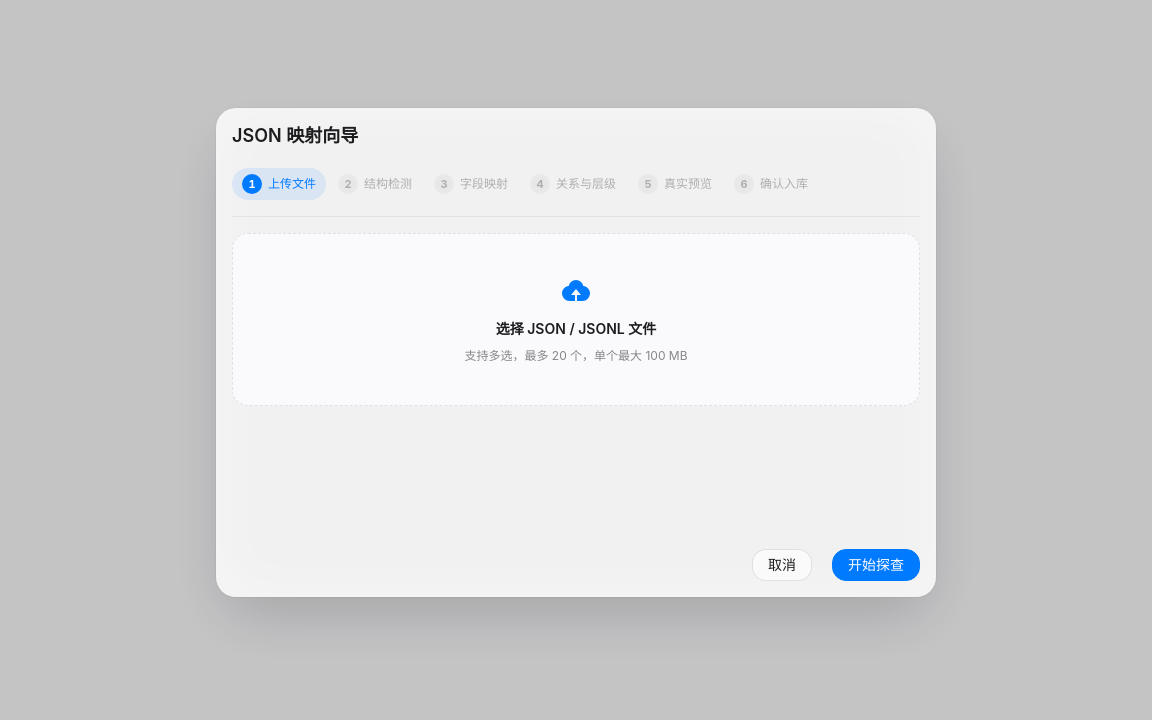
Test case: JsonMappingWizard shell › continue-configuration mode profiles the preset doc directly without re-upload
Click the button "开始探查" at (876, 565), box [832,549,920,581]
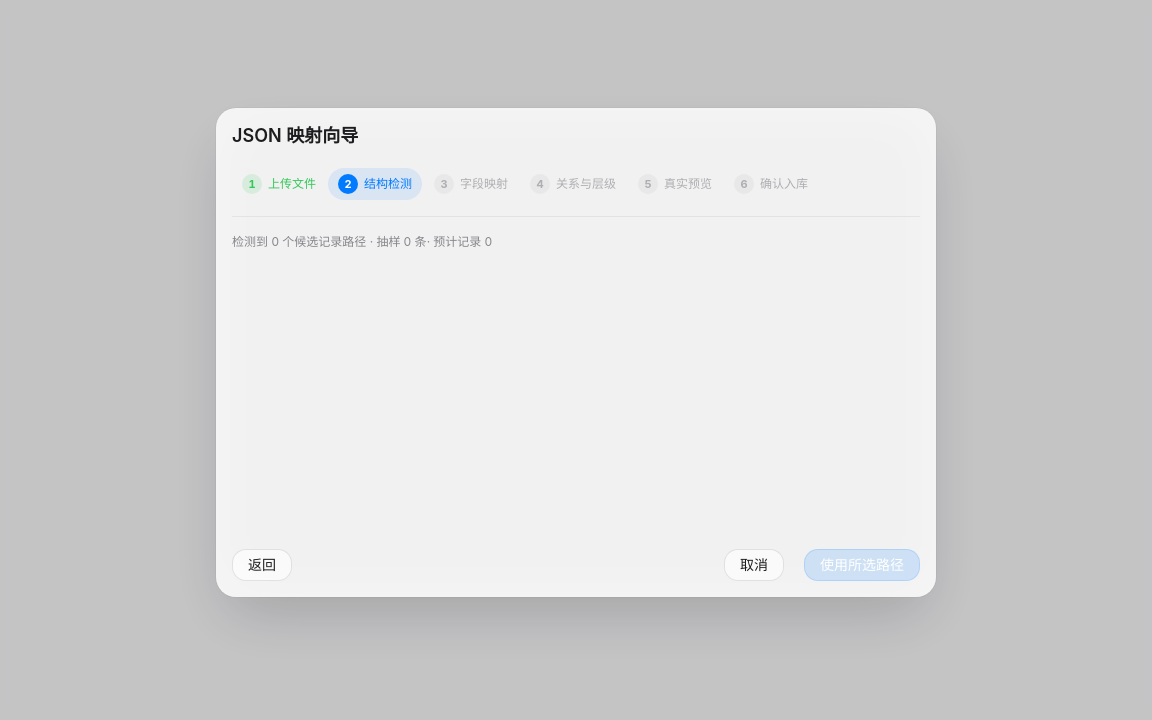
expect the text "检测到 0 个候选记录路径" is shown: met, box [232,234,370,249]
